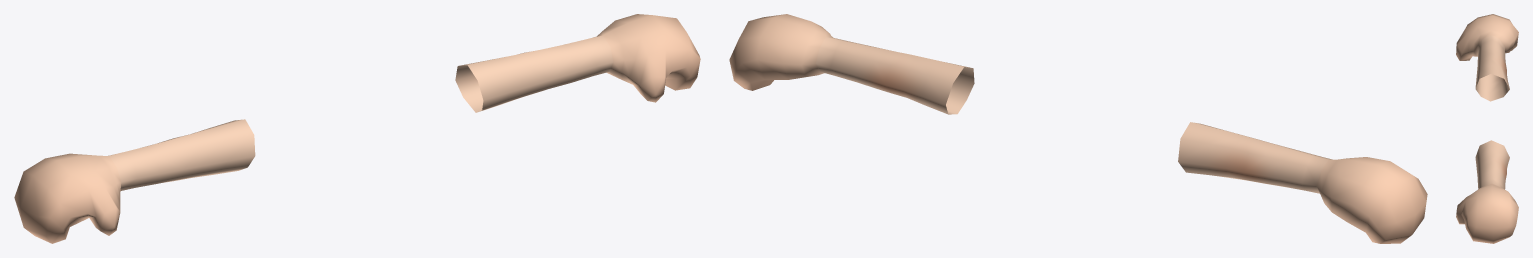
Rendered from Body_ArmA_1.fbx.
3 renders of one model, left to right at view 1: azimuth 30°, elevation 25°; view 2: azimuth 150°, elevation 25°; view 3: azimuth 270°, elevation 25°, orthographic. The views are drawn at different scales.
Parts seen in each view (by area): view 1: Body_ArmA_1; view 2: Body_ArmA_1; view 3: Body_ArmA_1.
Boxes of the visible parts, x1,y1,x2,y2 form: Body_ArmA_1: (14,14,700,243); Body_ArmA_1: (729,14,1427,243); Body_ArmA_1: (1456,14,1518,243).
Bounding box in the file's own units: 130 × 13.15 × 17.22.
